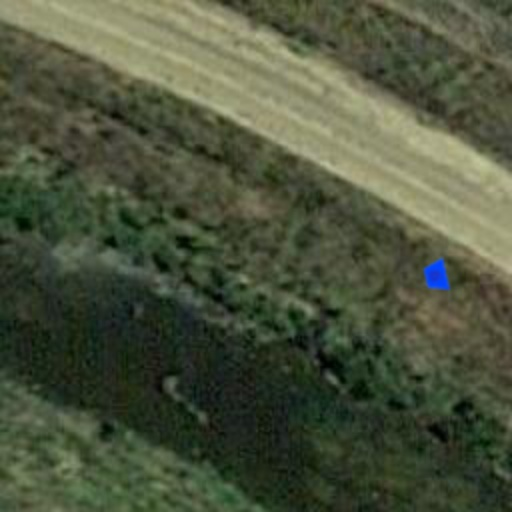trapezoid: (416, 256, 456, 296)
